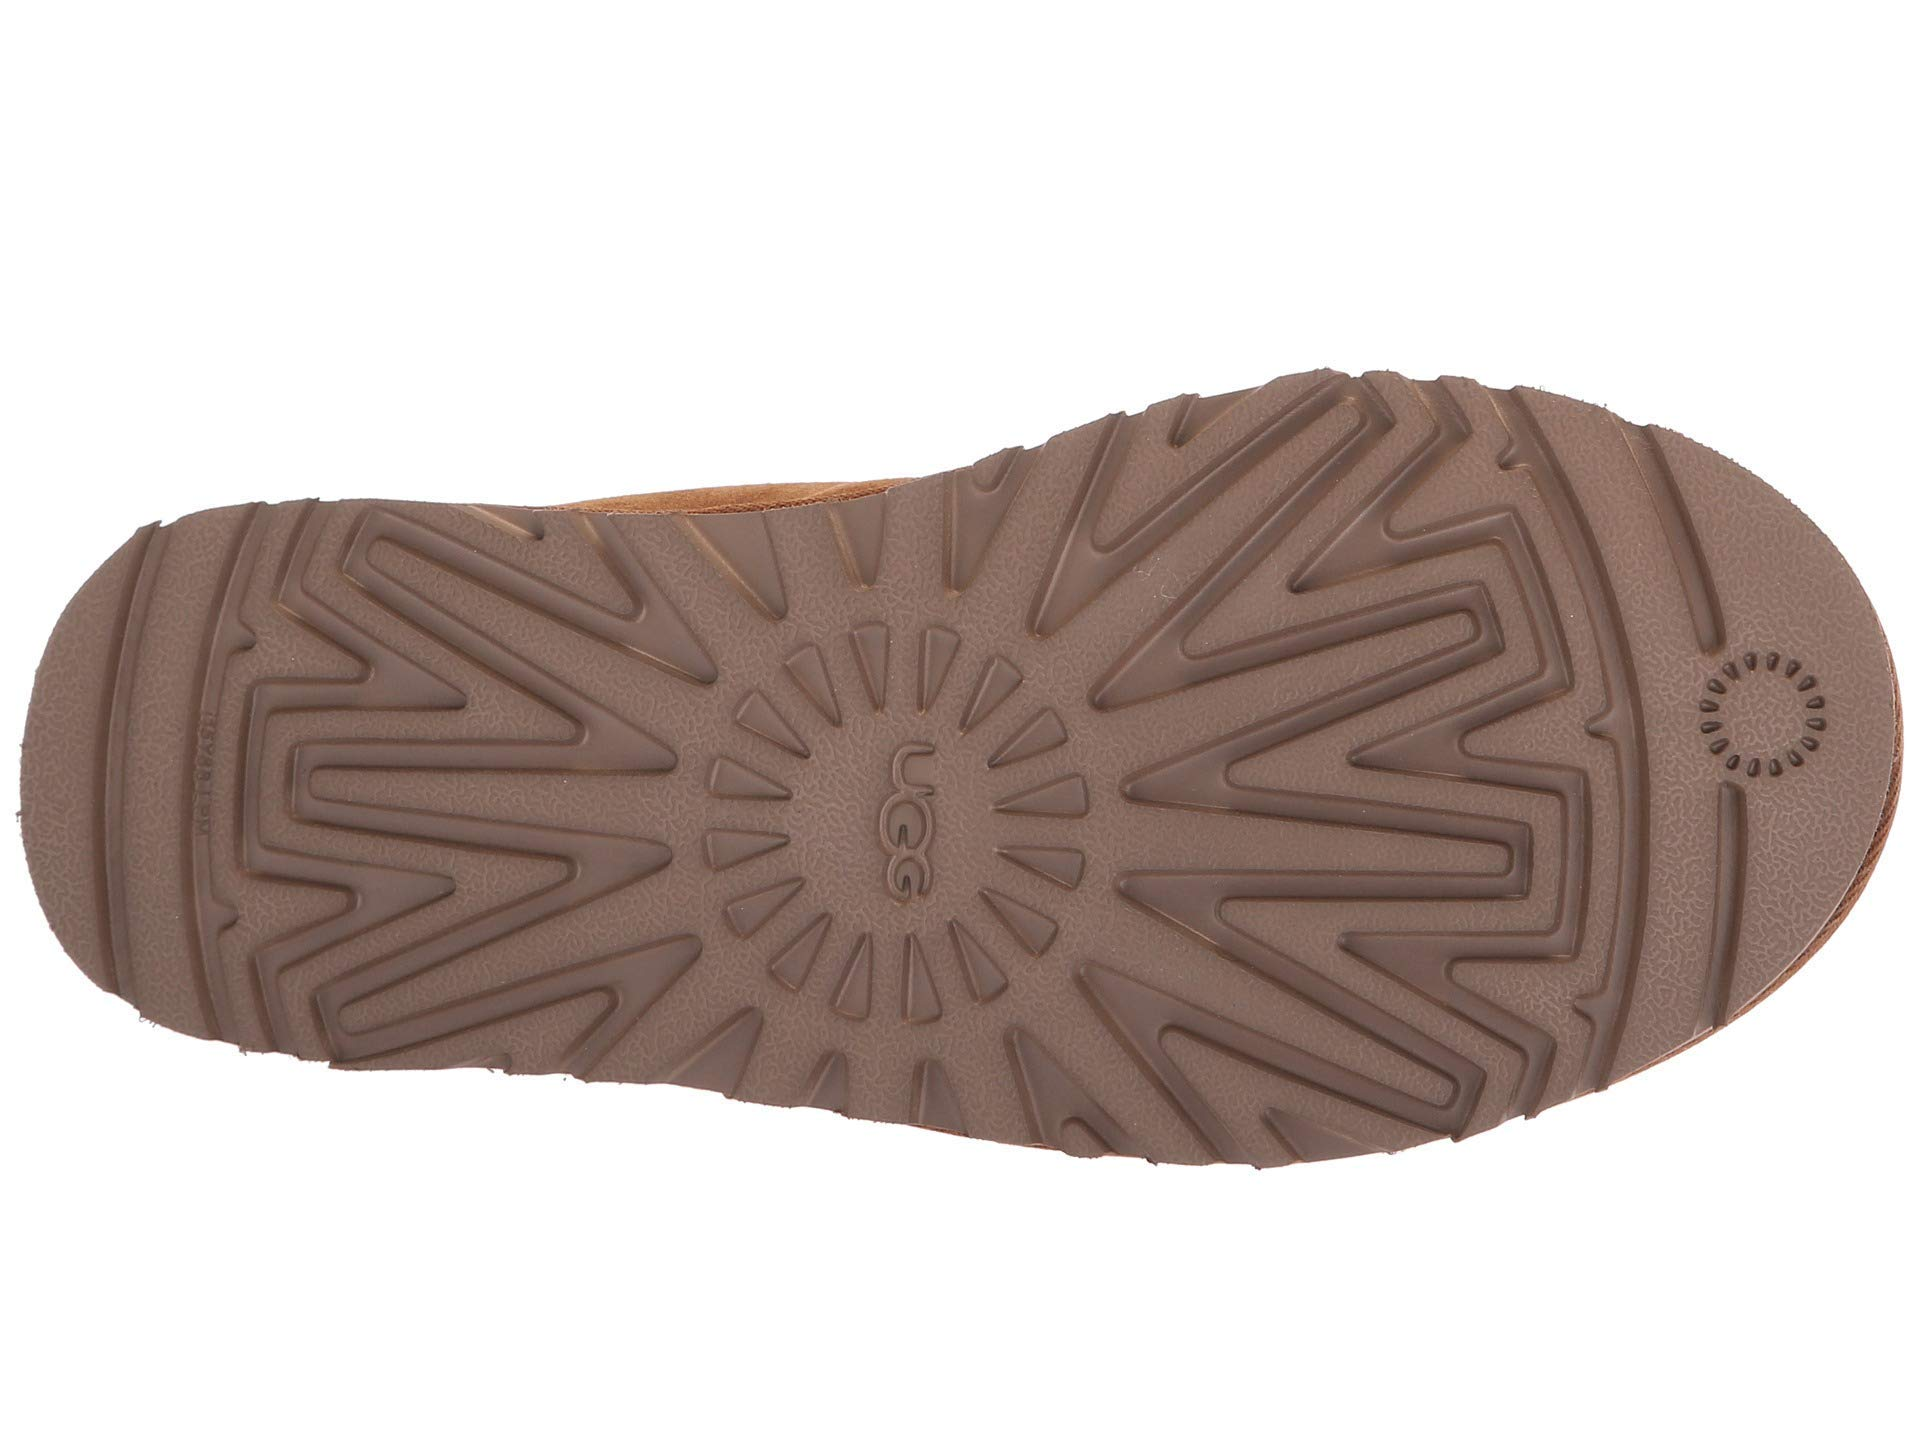chevron: (1095, 396, 1609, 1110), (618, 528, 1085, 1051), (144, 604, 591, 1010)
circle: (618, 528, 1085, 1051), (1705, 622, 1840, 799)
line: (1095, 396, 1609, 1110), (144, 604, 591, 1010)
text: (618, 528, 1085, 1051), (144, 604, 591, 1010)
triangle: (618, 528, 1085, 1051), (1705, 622, 1840, 799)
